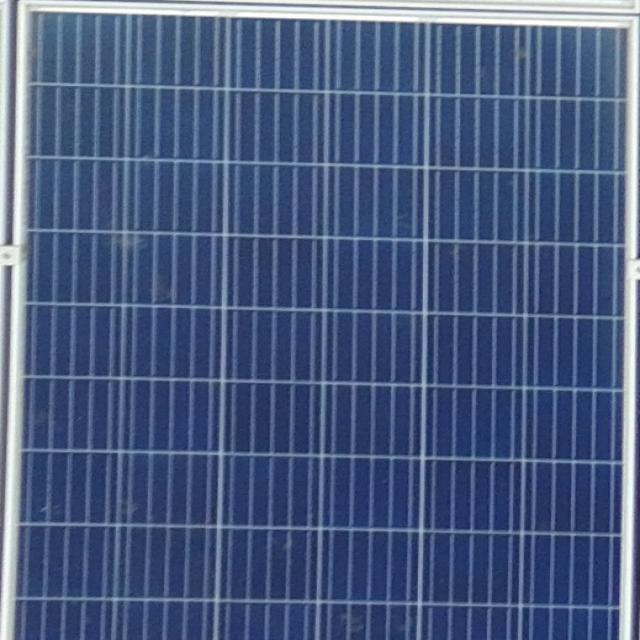bird-droppings: (106, 226, 154, 259)
